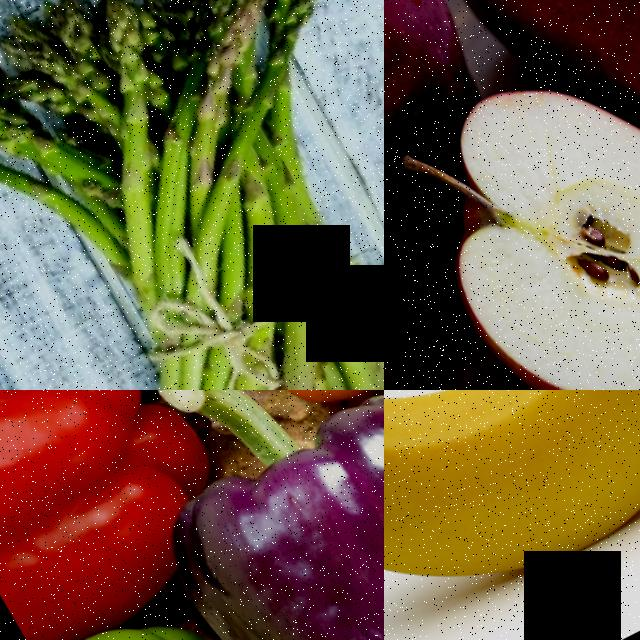apple: (384, 10, 640, 390), (384, 0, 519, 217), (500, 0, 640, 164)
asparagus: (0, 6, 258, 355), (135, 0, 344, 278)
banana: (384, 390, 640, 640)
bell pepper: (141, 391, 384, 640), (0, 390, 211, 603)
